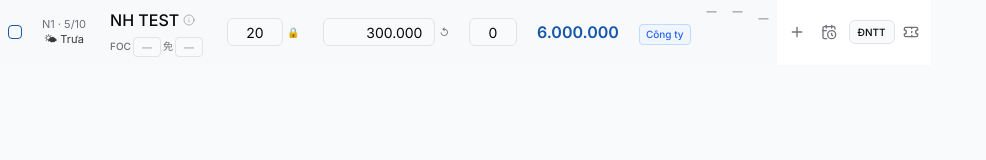
Test case: FOC Nhà hàng không bị lần lưu dòng ghi đè về số cũ (useNHSection + NHRow thật) › ĐUA: sửa giá TRƯỚC khi bản tải lại sau lúc lưu FOC kịp về → vẫn giữ 16免1, màn hình hiện ngay
The width and height of the screenshot is (986, 160).
Later steps or results of the test are not shown.
Type "16" into the 1st number field with placeholder "—" at [147, 46], box [133,36,161,56]
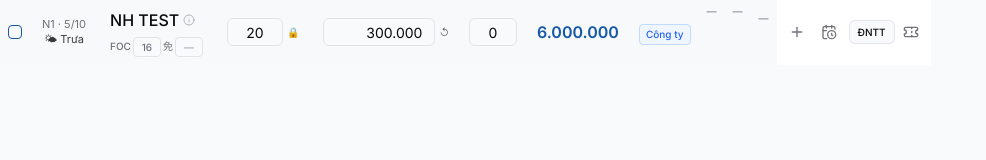
Type "1" into the number field with placeholder "—" at [189, 46], box [175,36,203,56]
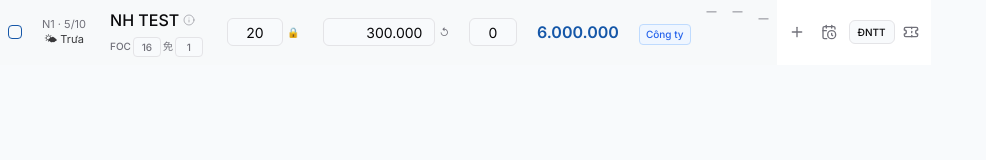
Leave the 4th number field with placeholder "—", box [175,36,203,56]
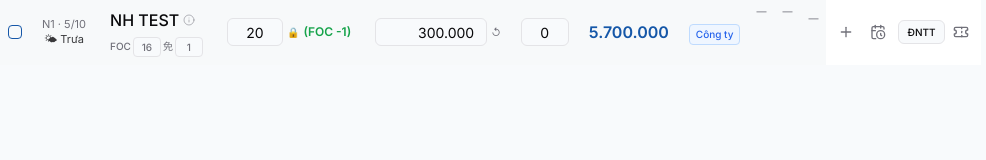
Expected: the text "(FOC -1)" is shown, [303,24,351,40]
